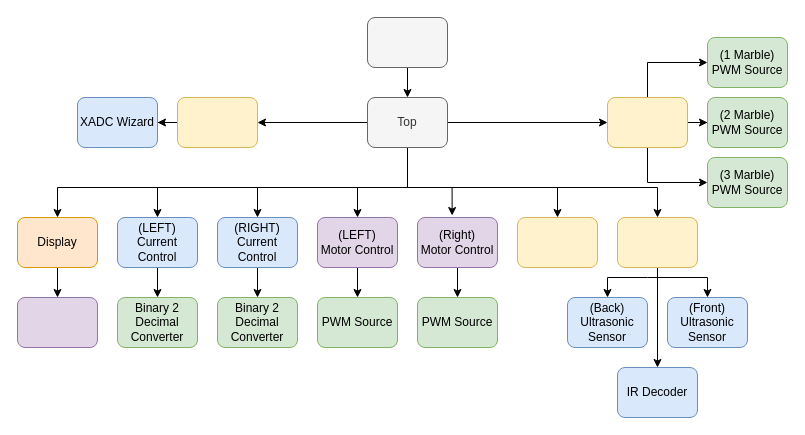
Image size: 805x435. Some labels were removed from this diagram. Here are the shapes that lost their labels. From the top down, the centre of each, then its label:
the point at 407,42: BASYS Constraints
the point at 217,122: ADC Handler
the point at 647,122: Marble Delivery
the point at 557,242: IPS Array
the point at 657,242: BOX Identifier
the point at 57,322: 7-Segment
